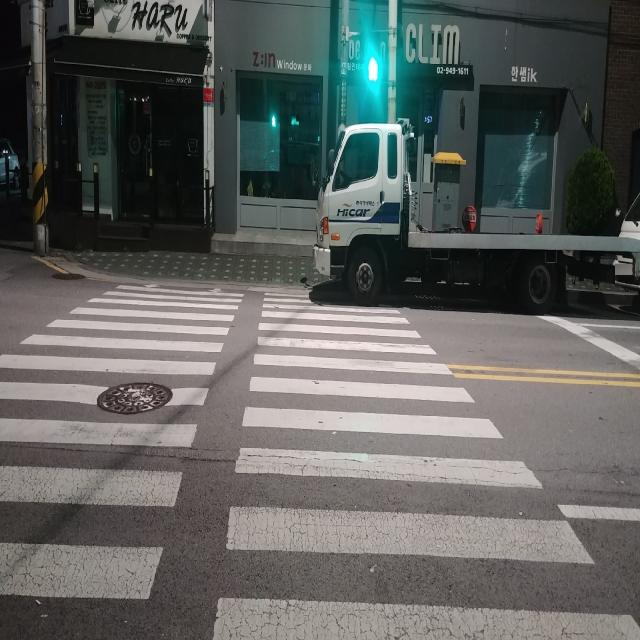초록불: (367, 32, 380, 84)
횡단보도: (0, 281, 640, 640)
